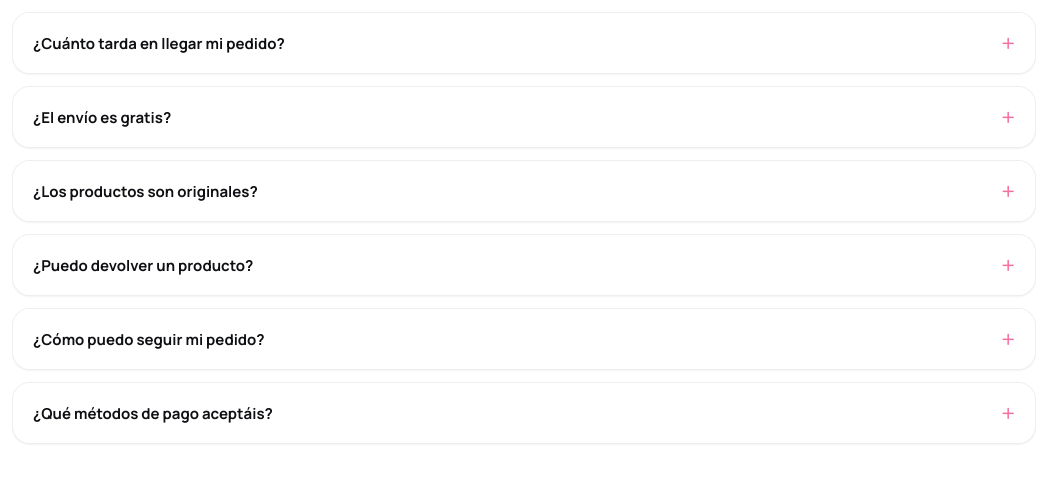
Scenario: FaqAccordion › abre y cierra una respuesta al pulsar
What coordinates should you click on to do the following:
click the button "¿Cuánto tarda en llegar mi pedido? +"
I would click on:
 (159, 43)
Its box is [13, 13, 1035, 73].
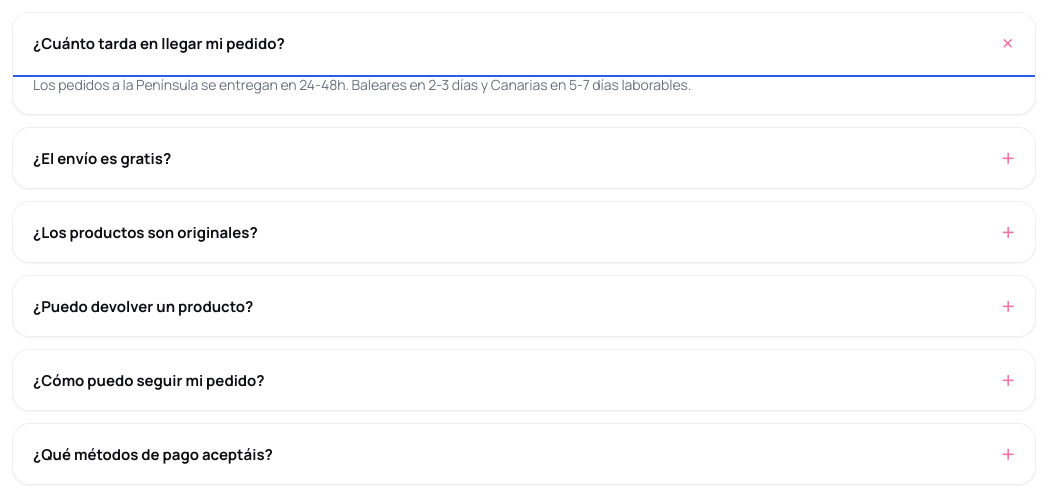
expect the text "Los pedidos a la Península se entregan en 24-48h. Baleares en 2-3 días y Canarias en 5-7 días laborables." is shown: met, box [33, 75, 691, 94]
expect the button "¿Cuánto tarda en llegar mi pedido? +" is expanded: met
What coordinates should you click on to do the following:
click the button "¿Cuánto tarda en llegar mi pedido? +"
I would click on:
 (159, 43)
Its box is [13, 13, 1035, 73].
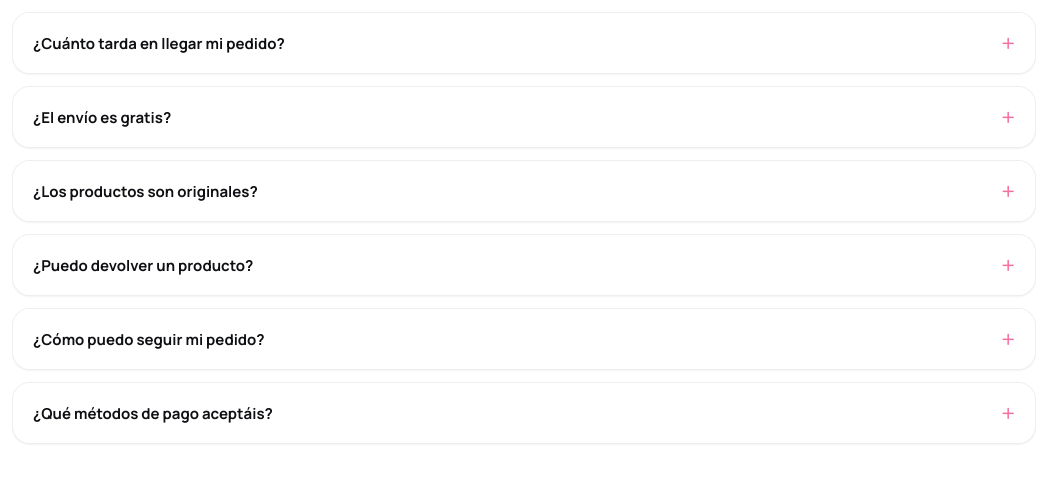
expect the text "Los pedidos a la Península se entregan en 24-48h. Baleares en 2-3 días y Canarias en 5-7 días laborables." is gone: met
